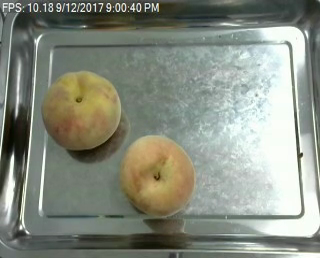Peach: (41, 69, 122, 151), (119, 134, 195, 216)
